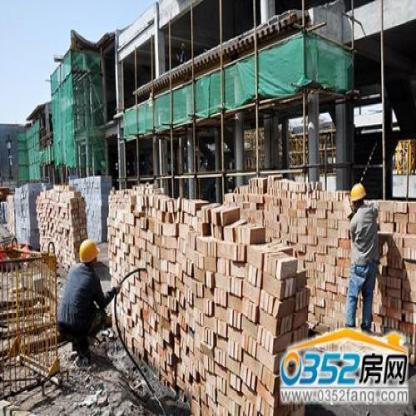helmet: (348, 180, 370, 214), (76, 238, 100, 269)
